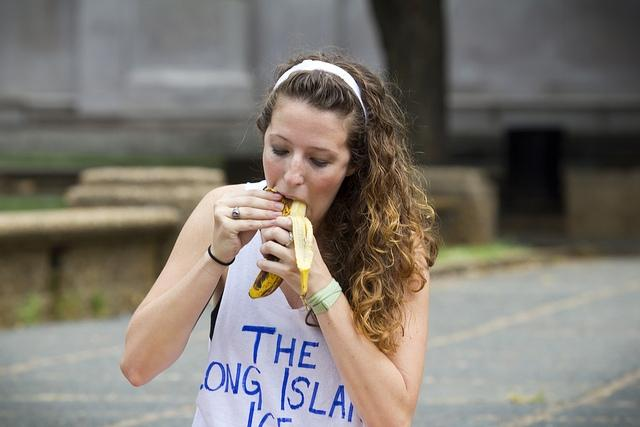banana: (248, 188, 314, 310)
